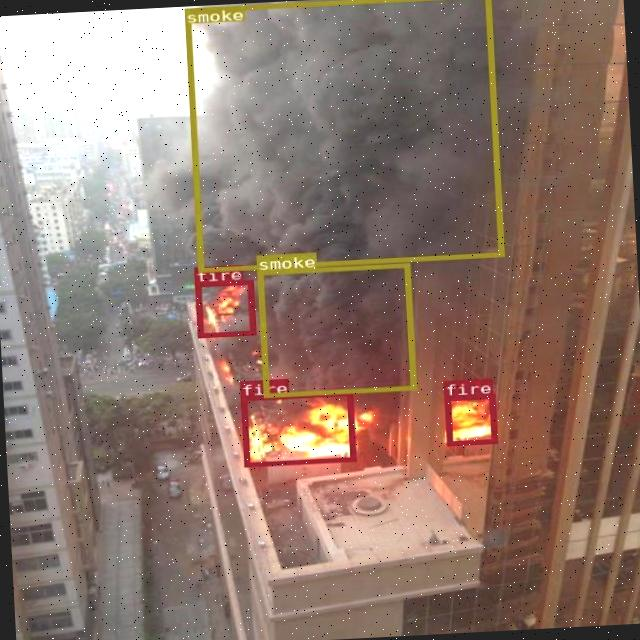fire: (239, 391, 355, 466), (194, 280, 255, 338), (444, 393, 496, 446)
smoke: (183, 0, 502, 272), (257, 262, 415, 397)
